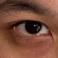eye: (26, 22, 41, 34)
